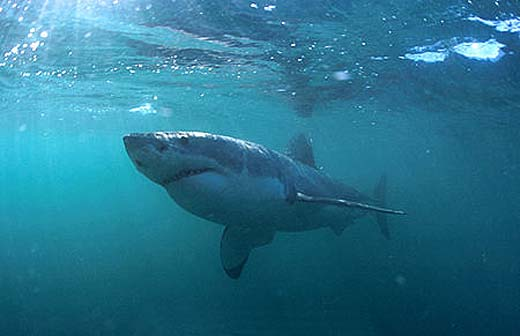Carcharodon_carcharias: (114, 117, 425, 276)
